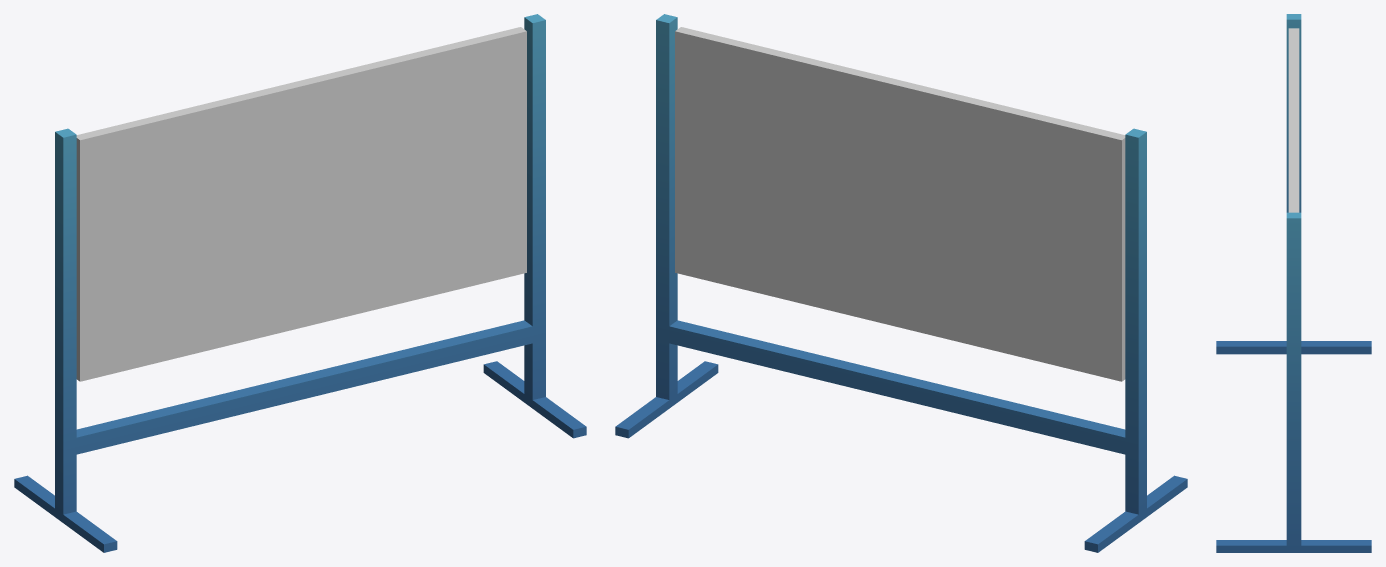
Rendered from Cam_bolme_Broken.fbx.
3 renders of one model, left to right at view 1: azimuth 30°, elevation 25°; view 2: azimuth 150°, elevation 25°; view 3: azimuth 270°, elevation 25°, orthographic. The views are drawn at different scales.
Parts seen in each view (by area): view 1: Cube.001, Cube.006, Cube.002, Cube.005, Cube.003, Cube.007, Cube.004; view 2: Cube.001, Cube.006, Cube.002, Cube.005, Cube.003, Cube.007, Cube.004; view 3: Cube.003, Cube.004, Cube.002, Cube.005, Cube.001.
Part boxes in pixels (<box>): Cube.001: <box>171,63,377,348</box>; Cube.006: <box>324,166,526,322</box>; Cube.002: <box>55,92,258,324</box>; Cube.005: <box>357,27,526,171</box>; Cube.003: <box>225,14,586,438</box>; Cube.007: <box>76,198,216,381</box>; Cube.004: <box>14,310,237,552</box>; Cube.001: <box>824,63,1030,348</box>; Cube.006: <box>675,166,877,322</box>; Cube.002: <box>943,92,1146,324</box>; Cube.005: <box>675,27,844,171</box>; Cube.003: <box>615,14,976,438</box>; Cube.007: <box>985,198,1125,381</box>; Cube.004: <box>964,310,1187,552</box>; Cube.003: <box>1216,212,1371,552</box>; Cube.004: <box>1216,171,1371,354</box>; Cube.002: <box>1286,14,1301,171</box>; Cube.005: <box>1288,154,1299,212</box>; Cube.001: <box>1288,104,1299,154</box>.
Bounding box in the file's own units: 479 × 366 × 154.
